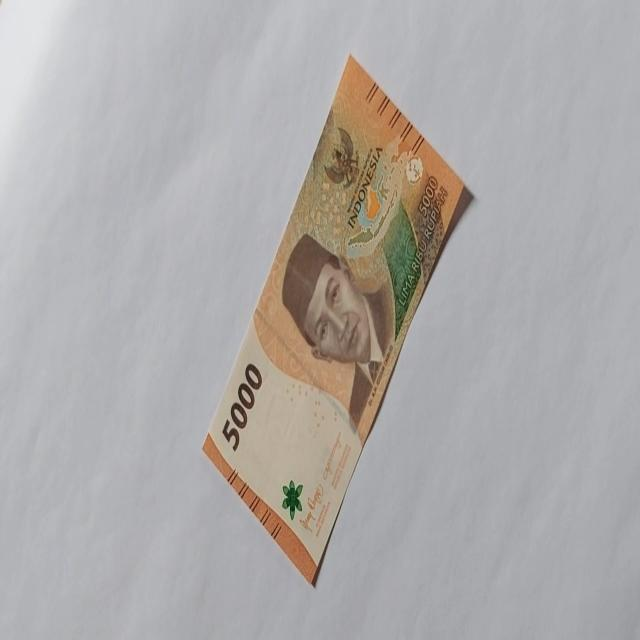lima ribu rupiah: (200, 52, 474, 585), (280, 231, 396, 429)
